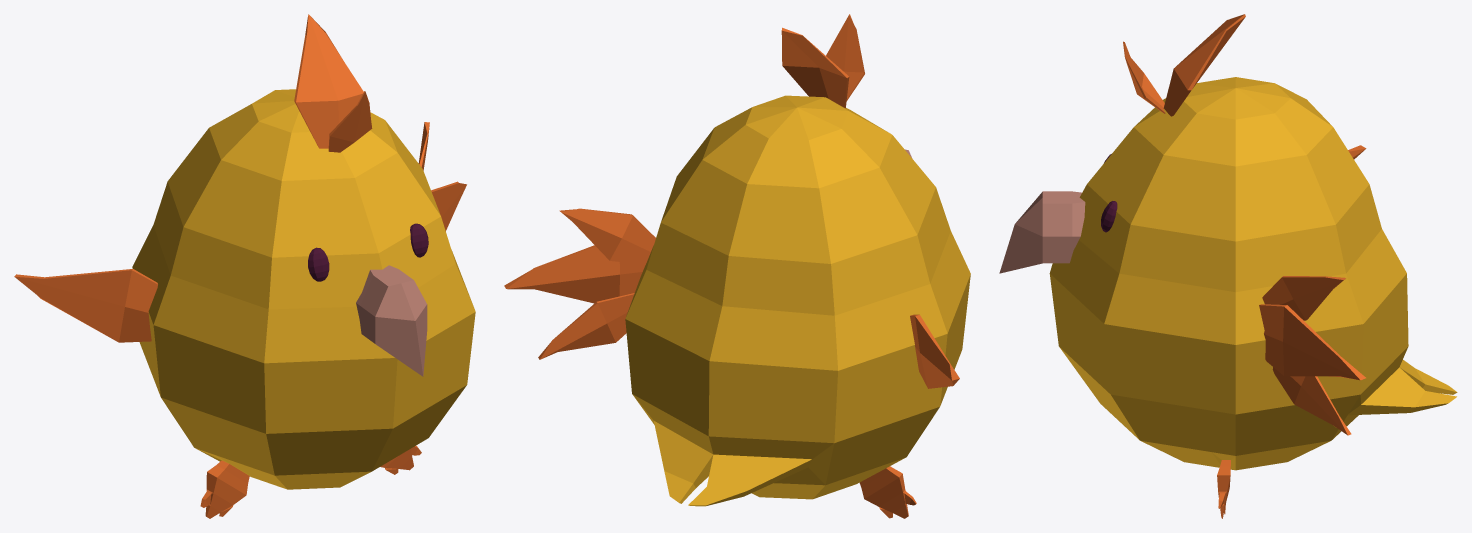
The model's file is villano.fbx.
3 views of the same model, side by side, from view 1: azimuth 30°, elevation 25°; view 2: azimuth 150°, elevation 25°; view 3: azimuth 270°, elevation 25° (orthographic). The views are drawn at different scales.
Visible parts, largest first — view 1: Sphere, Cube.006, Cube, Cube.004, Cube.005, Cube.001, Sphere.002; view 2: Sphere, Cube.001, Cube.003, Cube.004, Cube.002, Cube.006, Cube.005; view 3: Sphere, Cube, Cube.001, Cube.004, Cube.003, Cube.002, Cube.005.
Boxes of the visible parts, box(x1,y1,x2,y2) form: Sphere: box(132, 89, 475, 518); Cube.006: box(14, 269, 157, 342); Cube: box(356, 265, 427, 376); Cube.004: box(294, 14, 363, 148); Cube.005: box(328, 91, 372, 152); Cube.001: box(431, 181, 466, 231); Sphere.002: box(308, 247, 329, 281); Sphere: box(625, 95, 970, 518); Cube.001: box(504, 245, 645, 303); Cube.003: box(559, 208, 655, 264); Cube.004: box(781, 27, 849, 108); Cube.002: box(538, 293, 634, 359); Cube.006: box(910, 314, 959, 388); Cube.005: box(826, 14, 864, 100); Sphere: box(1049, 77, 1457, 518); Cube: box(999, 191, 1085, 273); Cube.001: box(1259, 304, 1365, 380); Cube.004: box(1163, 14, 1245, 116); Cube.003: box(1262, 276, 1345, 320); Cube.002: box(1272, 367, 1351, 435); Cube.005: box(1123, 41, 1165, 113).
Bounding box in the file's own units: 169 × 168 × 151.
